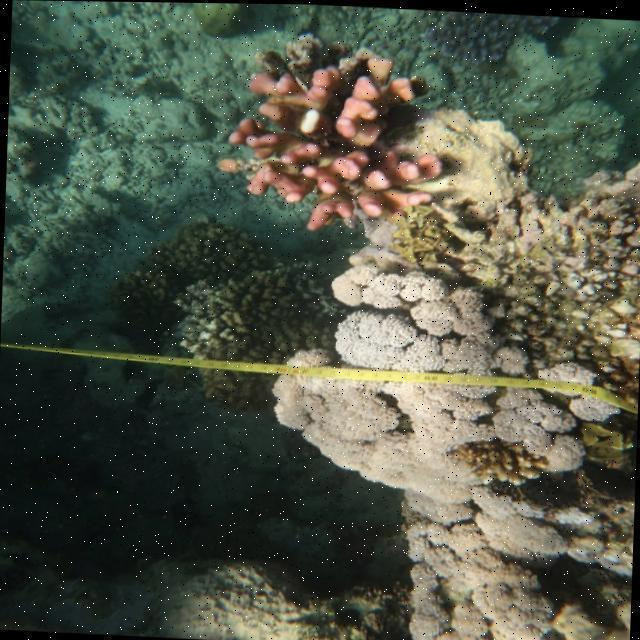Dead Coral: (403, 8, 584, 72)
Healthy Coral: (274, 323, 616, 640), (223, 41, 427, 239)
